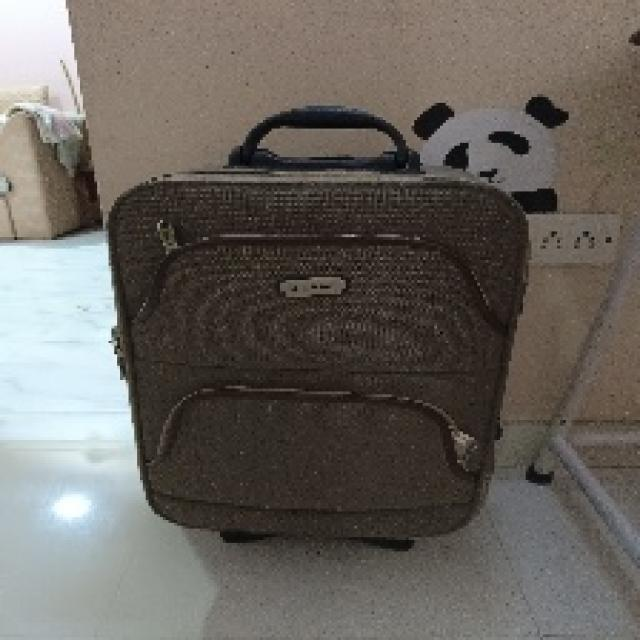Suitcase: (100, 101, 534, 557)
